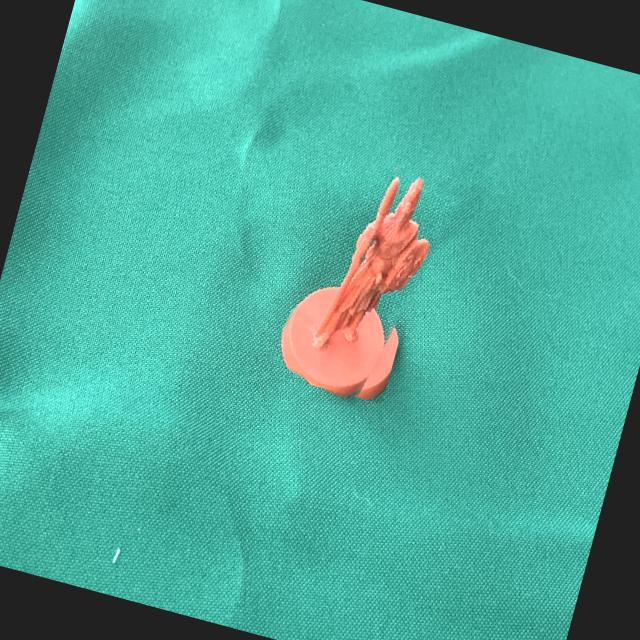amon_follower: (281, 177, 429, 398)
